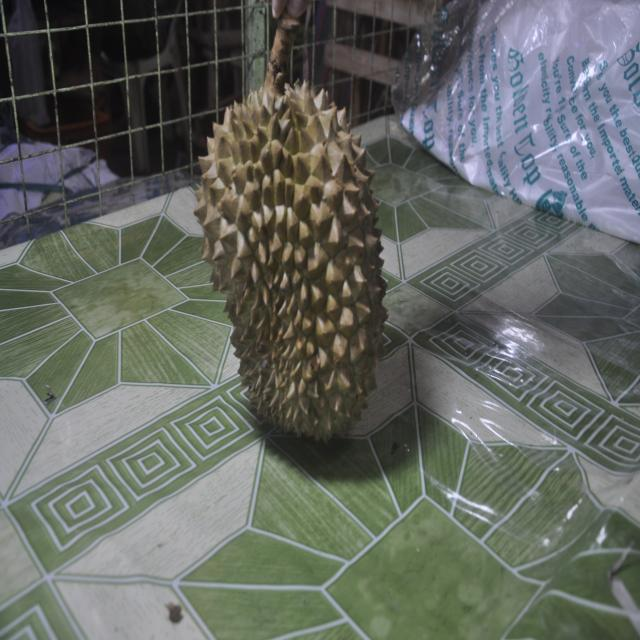mature: (195, 14, 387, 440)
